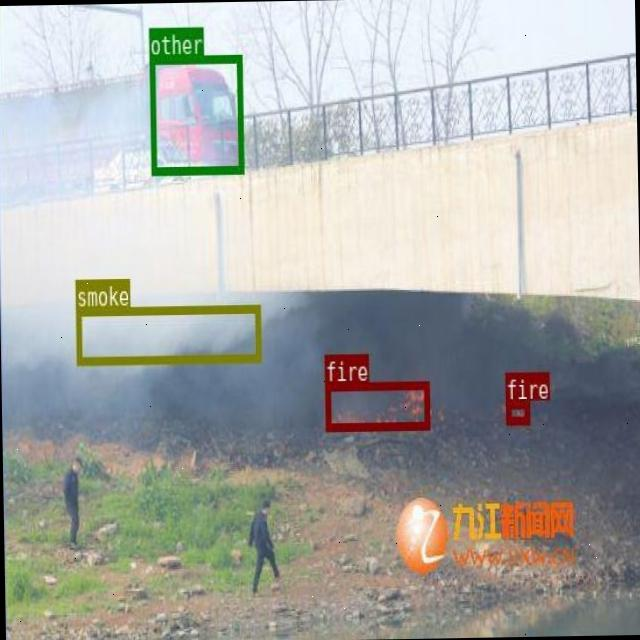fire: (324, 380, 429, 430), (506, 401, 528, 422)
smoke: (74, 303, 260, 363)
